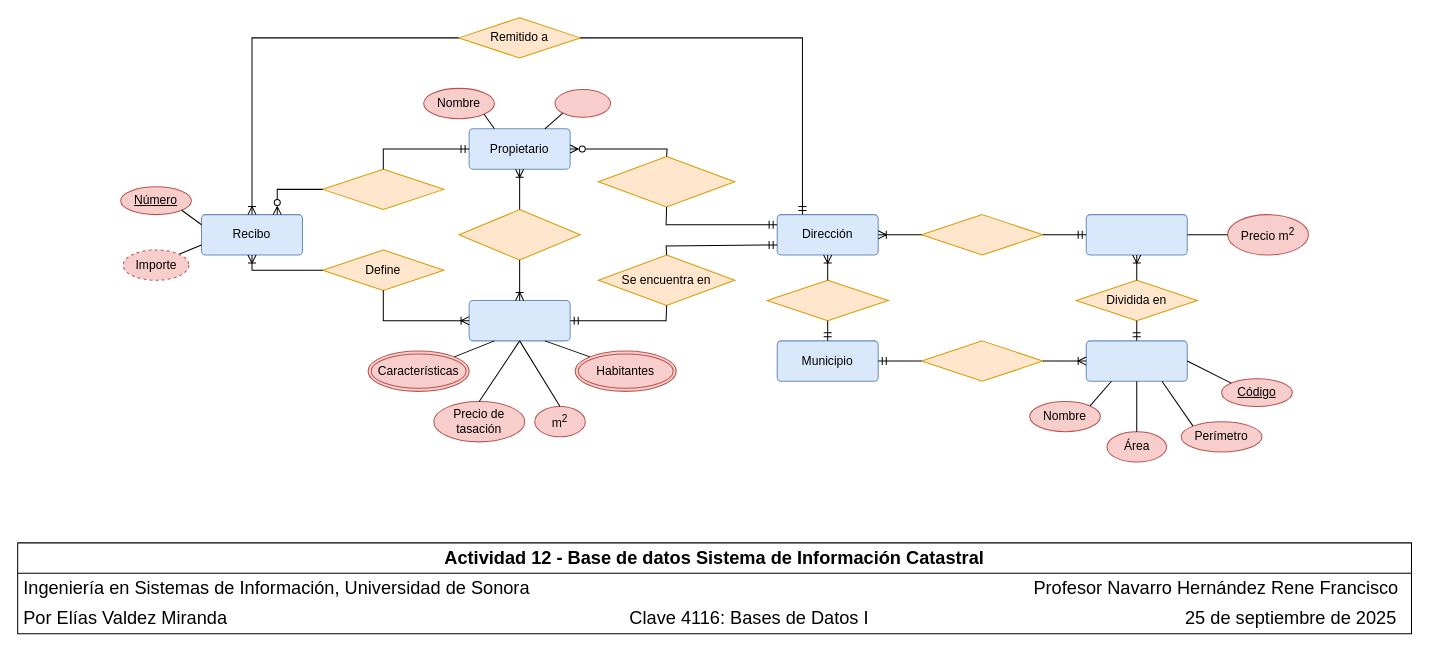
The diagram is 1429 pixels wide and 651 high, and some of its shapes have lost their labels. Each missing label, with the centre of its shape:
"Ciudad" belongs at [1136,360].
"Colonias" belongs at [1136,234].
"Describe" belongs at [982,234].
"Descrita en" belongs at [827,300].
"Paga" belongs at [383,189].
"Posee" belongs at [519,234].
"RFC" belongs at [582,103].
"Ubicado en" belongs at [982,360].
"Vive en" belongs at [666,181].
"Viviendas" belongs at [519,320].
